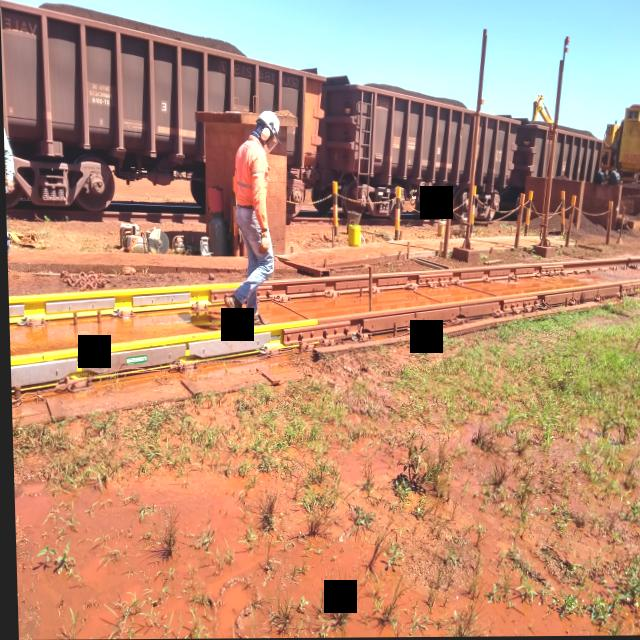gondola: (1, 0, 329, 232), (325, 67, 521, 219), (515, 108, 610, 208)
